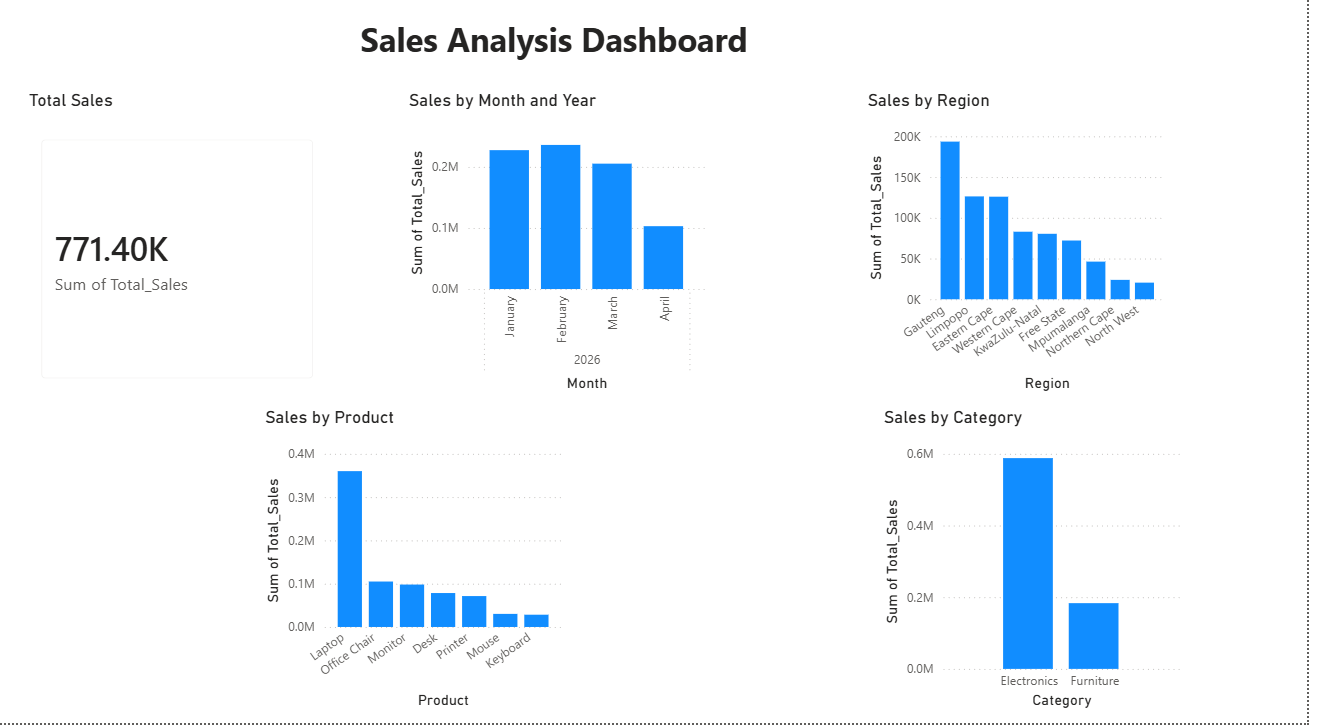

The page's visual inventory and layout, read from the dashboard file:
{"tool":"powerbi","page":{"name":"Page 1","canvas":[1280,720],"ordinal":0},"visuals":[{"type":"cardVisual","title":"Total Sales","fields":{"Data":["Sum(sales_analysis_dashboard sales.Total_Sales)","Sum(sales_analysis_dashboard sales.Total_Sales)"]},"box":[24.5,100.3,300,300],"z":0},{"type":"clusteredColumnChart","title":" Sales by Category","fields":{"Category":["sales_analysis_dashboard sales.Category"],"Y":["Sum(sales_analysis_dashboard sales.Total_Sales)"]},"box":[860.9,410.9,300,300],"z":1000},{"type":"clusteredColumnChart","title":"Sales by Region","fields":{"Category":["sales_analysis_dashboard sales.Region"],"Y":["Sum(sales_analysis_dashboard sales.Total_Sales)"]},"box":[845,100.3,300,300],"z":2000},{"type":"lineStackedColumnComboChart","title":"Sales by  Month and Year","fields":{"Category":["sales_analysis_dashboard sales.Order_Date.Variation.Date Hierarchy.Year","sales_analysis_dashboard sales.Order_Date.Variation.Date Hierarchy.Month"],"Y":["Sum(sales_analysis_dashboard sales.Total_Sales)"]},"box":[396.2,100.3,300,300],"z":3000},{"type":"clusteredColumnChart","title":"Sales by Product","fields":{"Category":["sales_analysis_dashboard sales.Product"],"Y":["Sum(sales_analysis_dashboard sales.Total_Sales)"]},"box":[255.6,410.9,300,300],"z":4000},{"type":"textbox","box":[348.5,25.7,430.4,75.8],"z":5000}]}

Visuals, with their boxes on the page's 1280x720 design canvas (x1, y1, x2, y2). These are canvas units, not pixel positions in the 1335x726 screenshot, which may show the page scaled, cropped or inside an application window:
"Total Sales" cardVisual: [24,100,324,400]
" Sales by Category" clusteredColumnChart: [861,411,1161,711]
"Sales by Region" clusteredColumnChart: [845,100,1145,400]
"Sales by  Month and Year" lineStackedColumnComboChart: [396,100,696,400]
"Sales by Product" clusteredColumnChart: [256,411,556,711]
textbox: [348,26,779,102]
